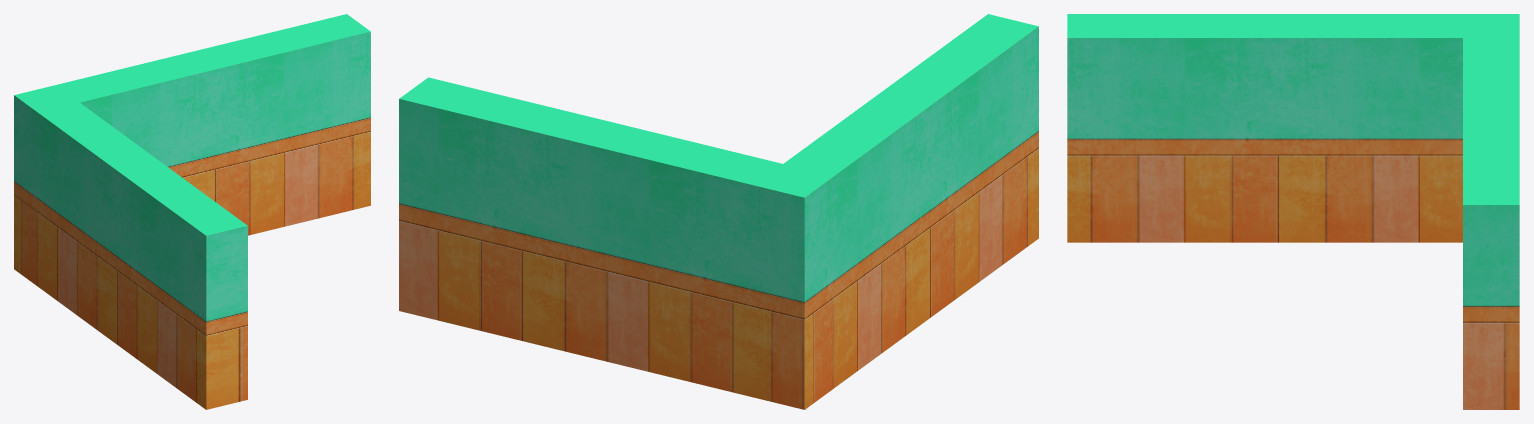
File: Wall_Corner_01_v02.fbx
The picture shows the model from 3 angles, left to right: view 1: azimuth 30°, elevation 25°; view 2: azimuth 150°, elevation 25°; view 3: azimuth 270°, elevation 25°; orthographic projection. The views are drawn at different scales.
Parts seen in each view (by area): view 1: Wall_Corner_01_v02; view 2: Wall_Corner_01_v02; view 3: Wall_Corner_01_v02.
Boxes of the visible parts, bbox=[...] form: Wall_Corner_01_v02: bbox=[14, 14, 370, 409]; Wall_Corner_01_v02: bbox=[399, 14, 1038, 409]; Wall_Corner_01_v02: bbox=[1067, 14, 1519, 409].
Size of the model in its own units: 400 by 200 by 400.
